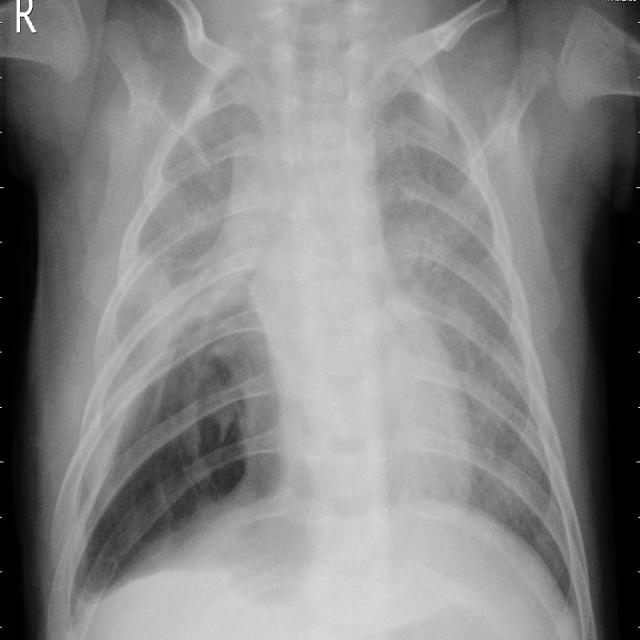high-pneumonia: (73, 237, 185, 528), (177, 80, 266, 380)
low-pneumonia: (372, 94, 471, 347), (214, 333, 282, 507)
